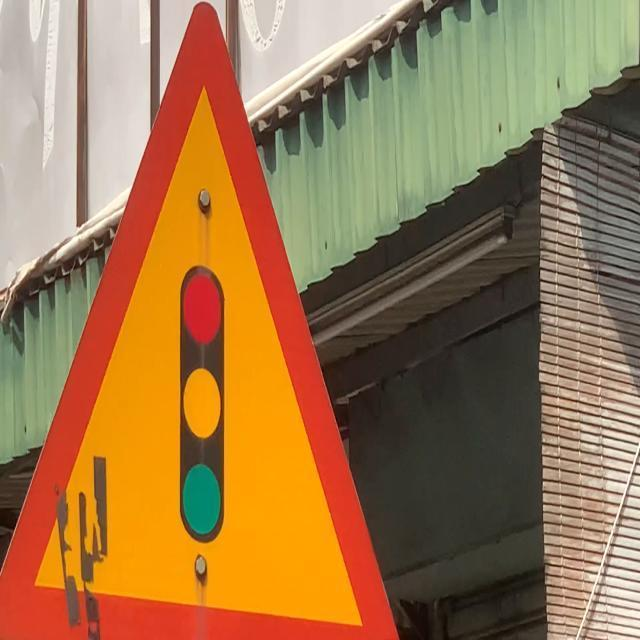209-giao-nhau-co-tin-hieu-den: (4, 0, 399, 640)
